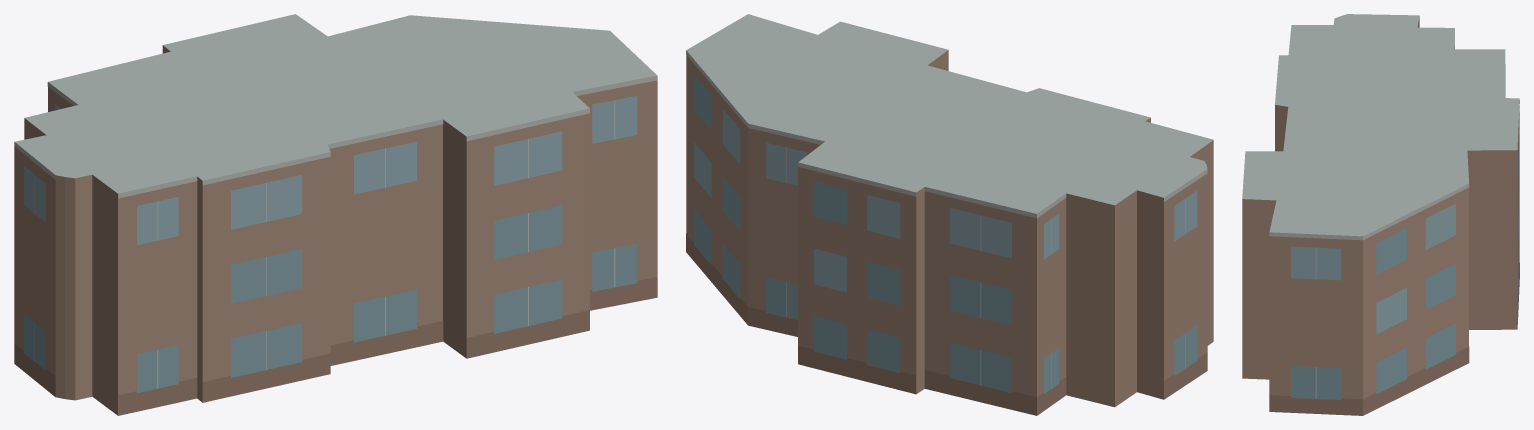
The model's file is survey-upis-32990946.glb.
The picture shows the model from 3 angles, left to right: view 1: azimuth 30°, elevation 25°; view 2: azimuth 150°, elevation 25°; view 3: azimuth 270°, elevation 25°; orthographic projection. The views are drawn at different scales.
Visible parts, largest first — view 1: survey-upis-32990946.tmp; view 2: survey-upis-32990946.tmp; view 3: survey-upis-32990946.tmp.
Part boxes in pixels (box(x1,y1,x2,y2)): survey-upis-32990946.tmp: box(14, 14, 657, 415); survey-upis-32990946.tmp: box(686, 14, 1213, 415); survey-upis-32990946.tmp: box(1242, 14, 1519, 415).
Bounding box in the file's own units: 30.03 × 11.3 × 15.85.
